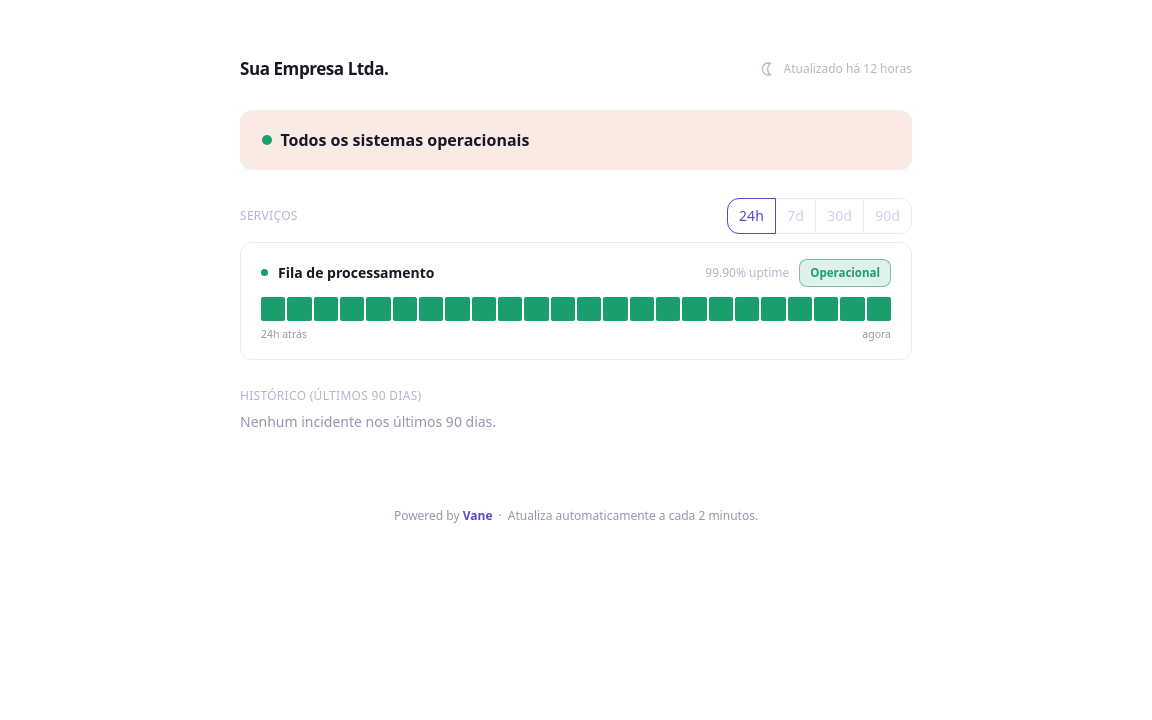
PublicStatusPage - local theme (PUBSTATUS-07..11) › shows the moon icon in light (offers switching to dark) and the sun icon in dark (offers switching back to light)
Check: the text "Todos os sistemas operacionais" is shown, box [280,128,529,152]
Click the button named "Alternar tema".
click(767, 69)  # box [759,61,775,77]
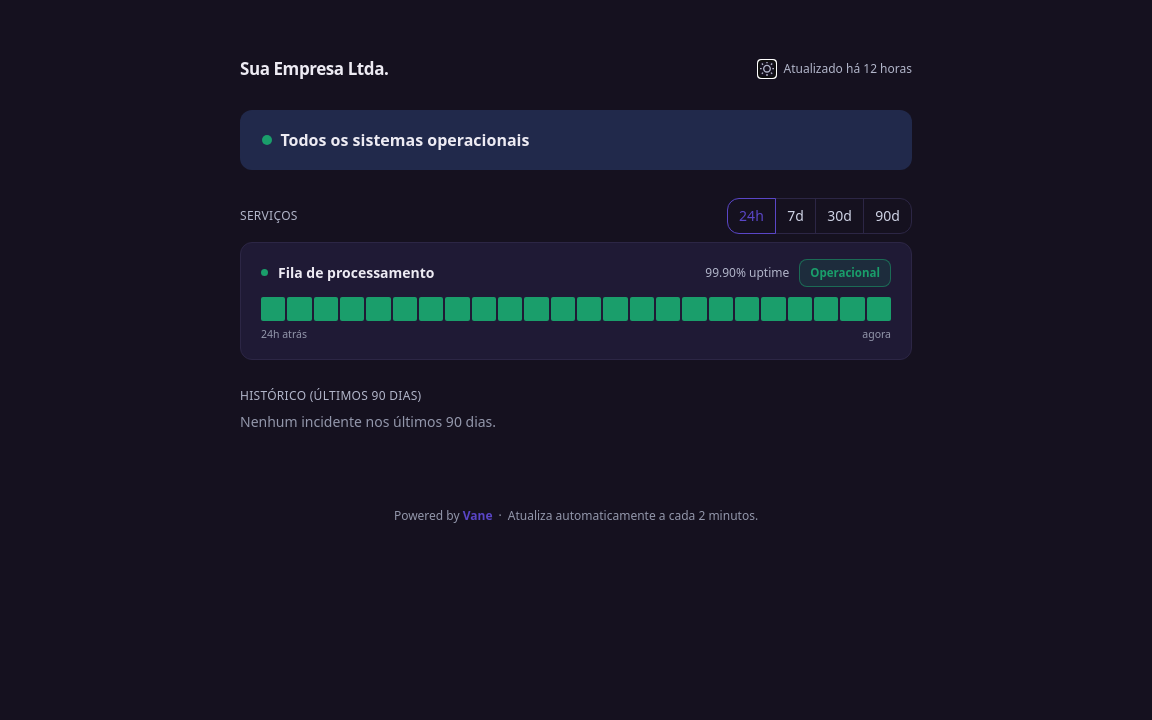
Check: the icon with test id "theme-icon-sun" is shown, box [759,61,775,77]
Check: the icon with test id "theme-icon-moon" is gone
